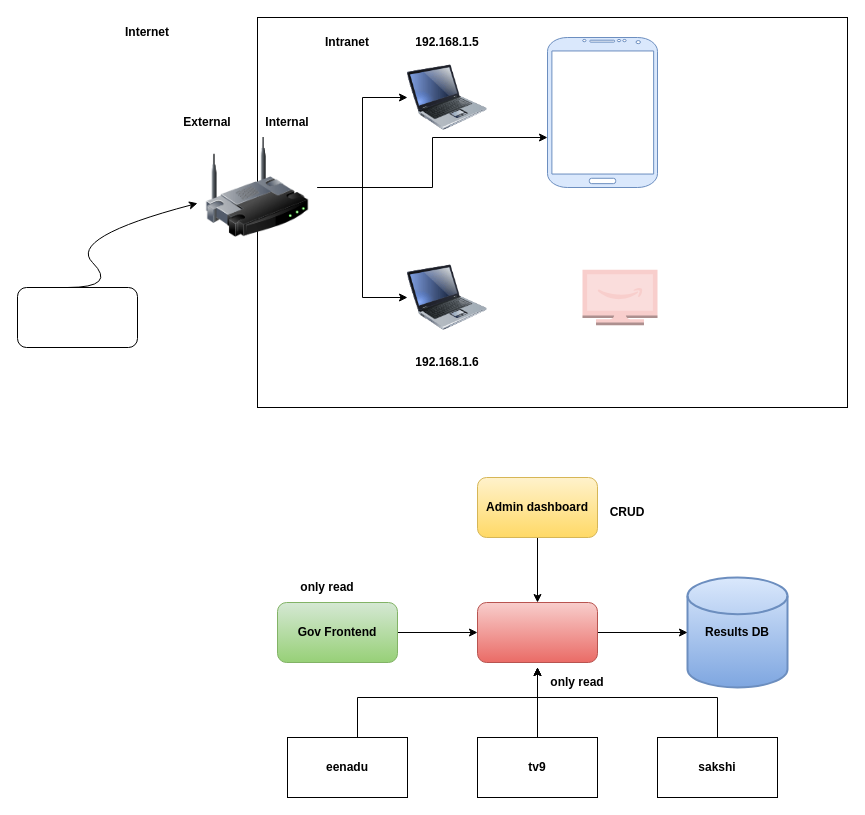
Some shapes in this 865 by 815 pixel diagram are drawn without their labels. Here are the shapes that lost their labels. From the top down, the centre of each, then its label:
point (77, 317): ISP
point (537, 632): Gov Backend
